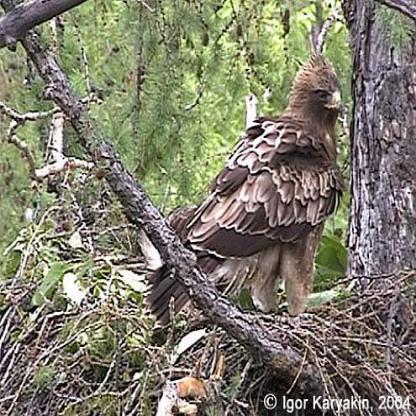Burung: (140, 53, 344, 340)
